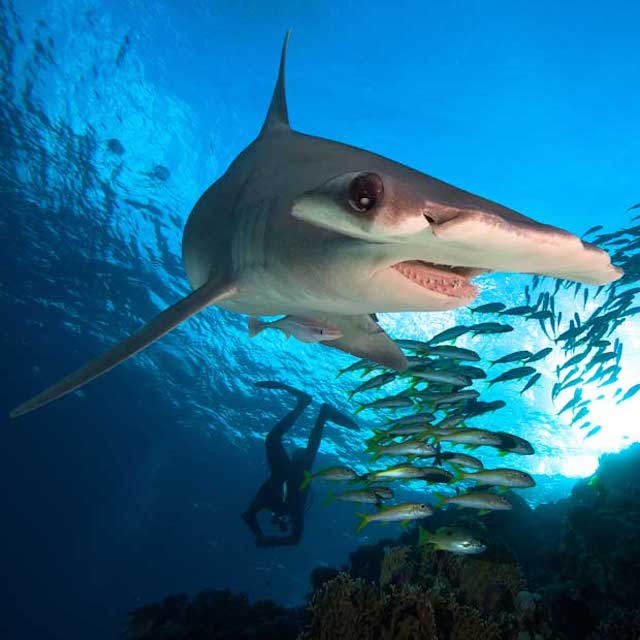hammerhead: (264, 121, 622, 322)
